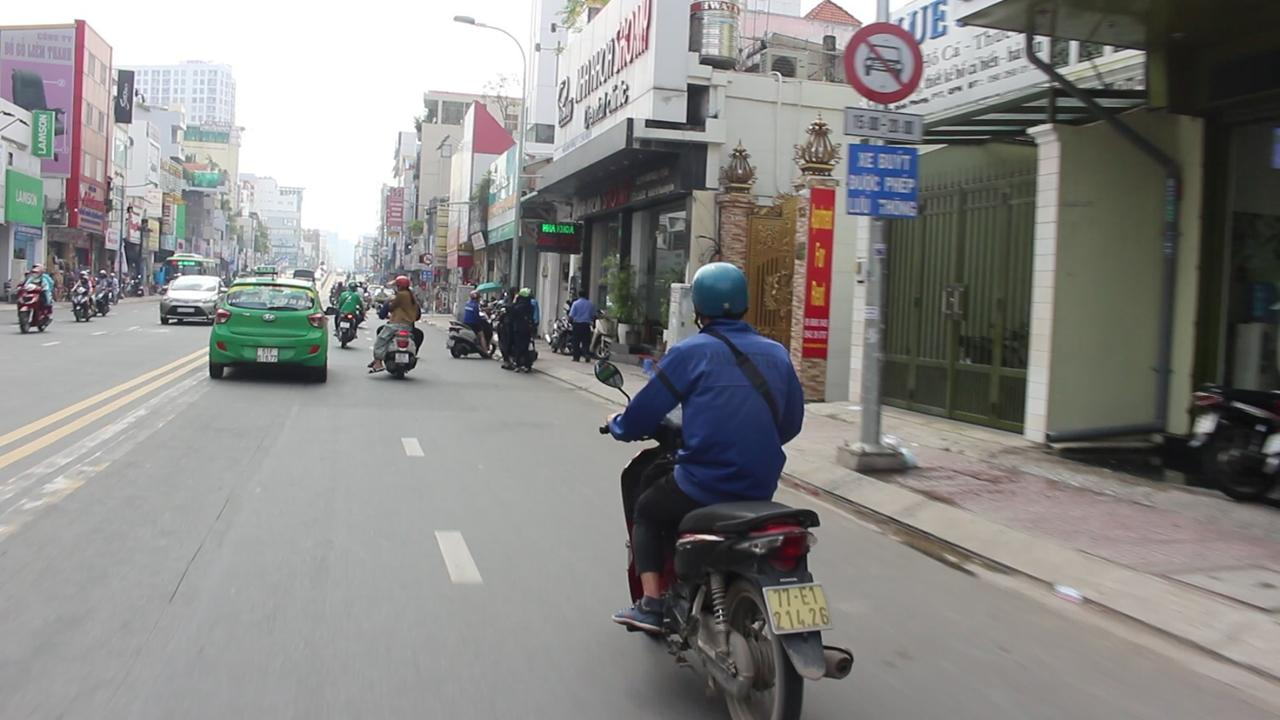P.104: (836, 17, 928, 109)
